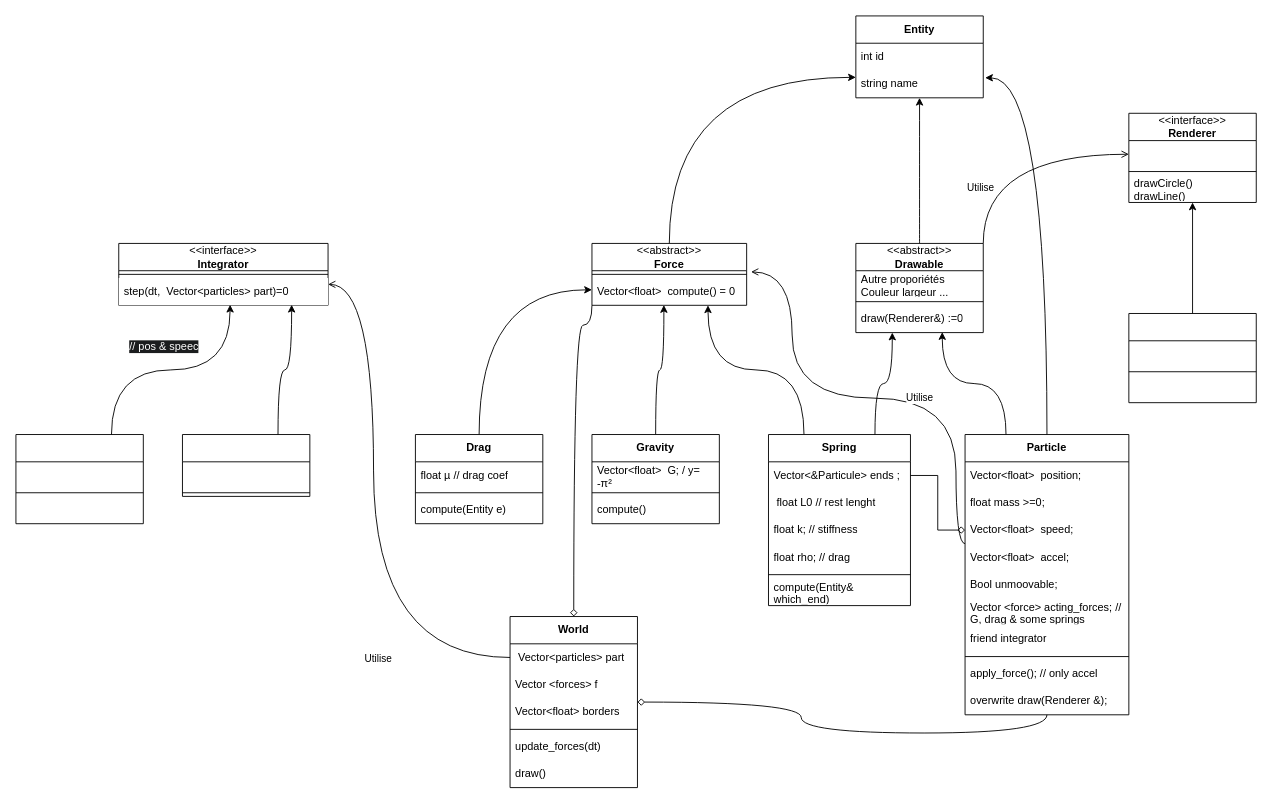
Some shapes in this 1272 by 804 pixel diagram are drawn without their labels. The centre of each missing label's shape, as x and y in pixels:
Euler Integrator: point 246,465
SFML Renderer: point 1192,358
Verlet Integrator: point 79,479
